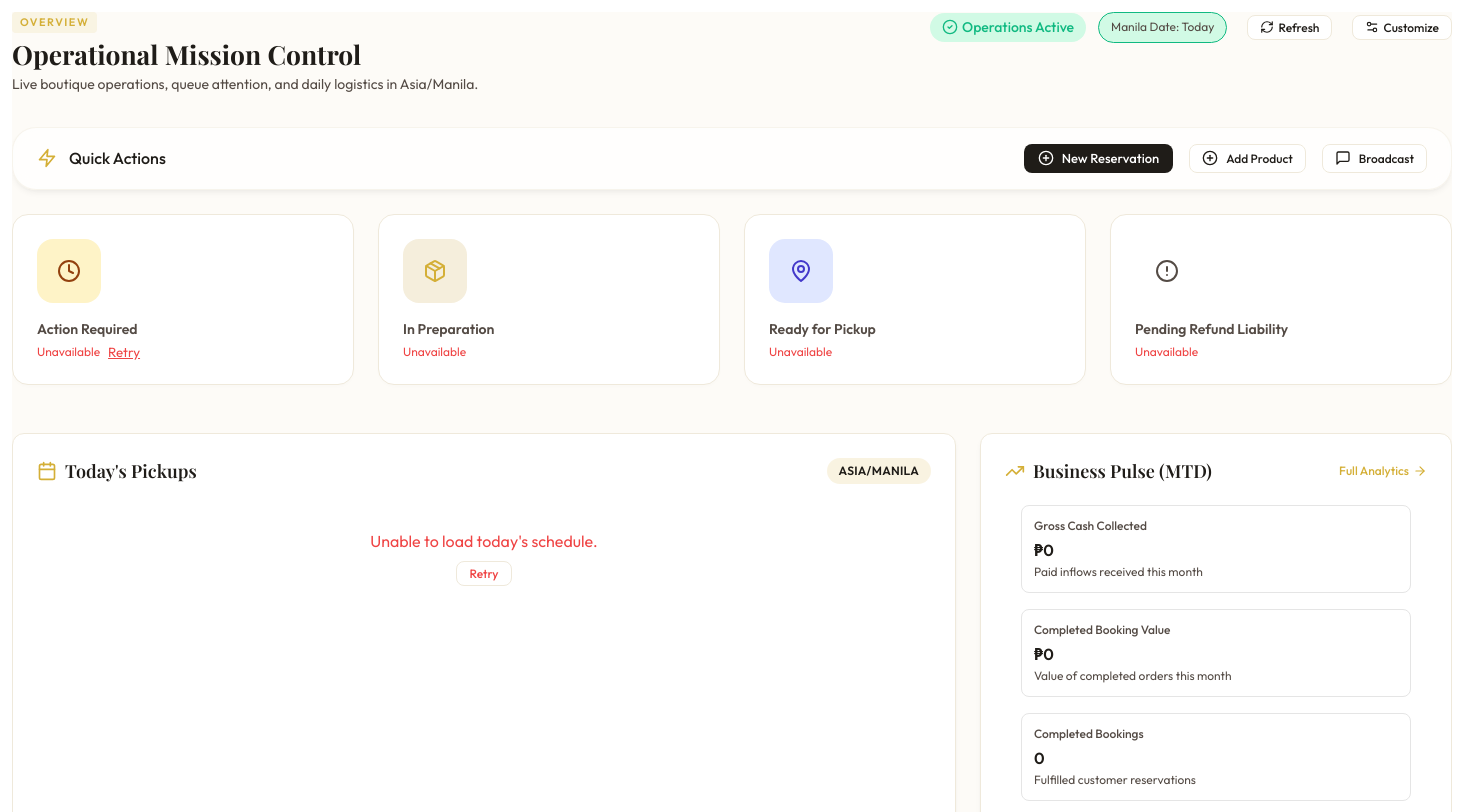
Dashboard Mission Control Component › renders three-state error handling and allows retry
Expected: the 1st text "Unavailable" is shown, [37,344,100,360]
Click the 1st button "Retry". click: point(124, 352)
box: [108,344,140,360]
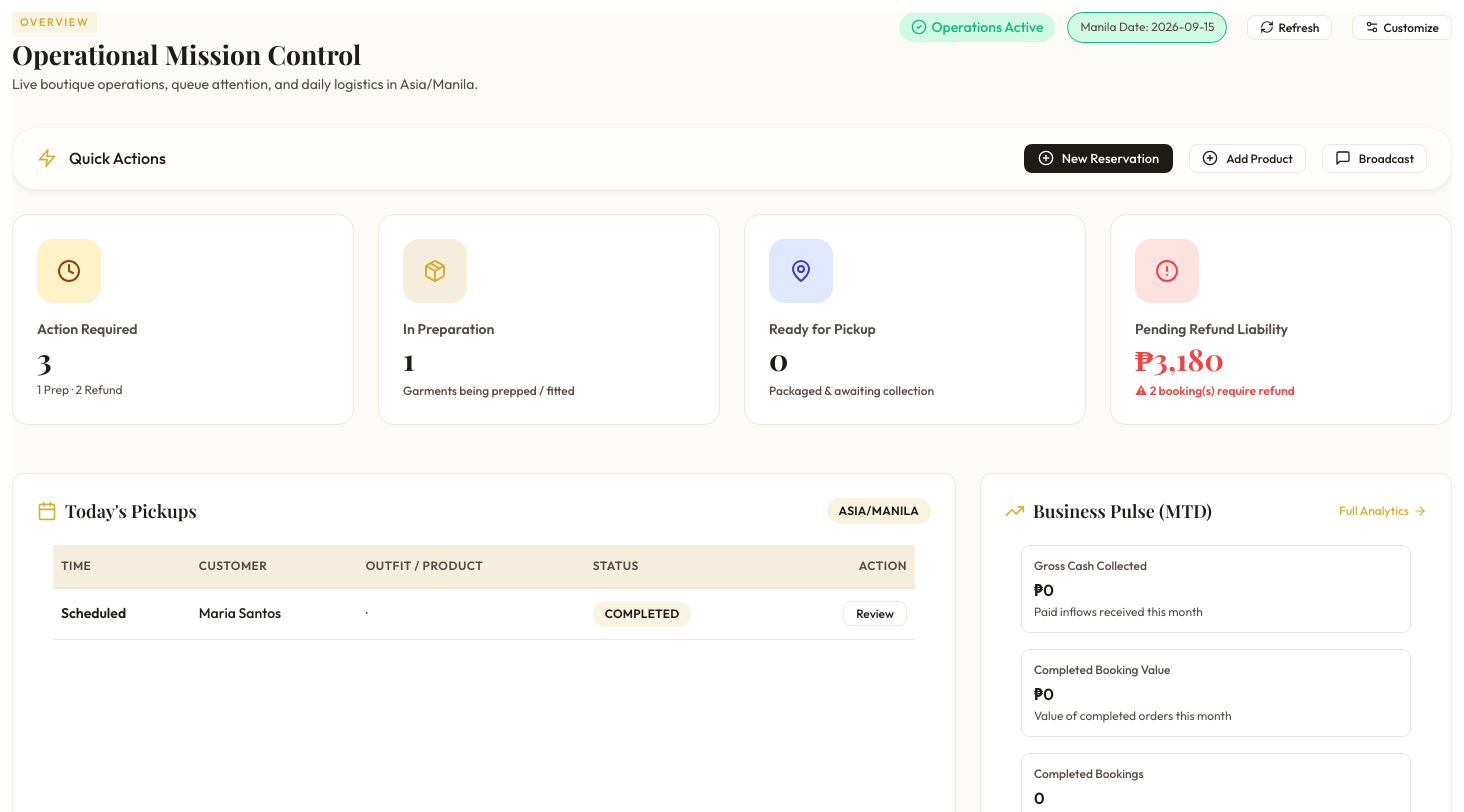
Result: the heading "3" is shown at [37,339,52,379]
Result: the text "Unavailable" is gone
